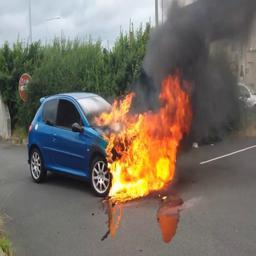fire: (95, 72, 194, 199)
